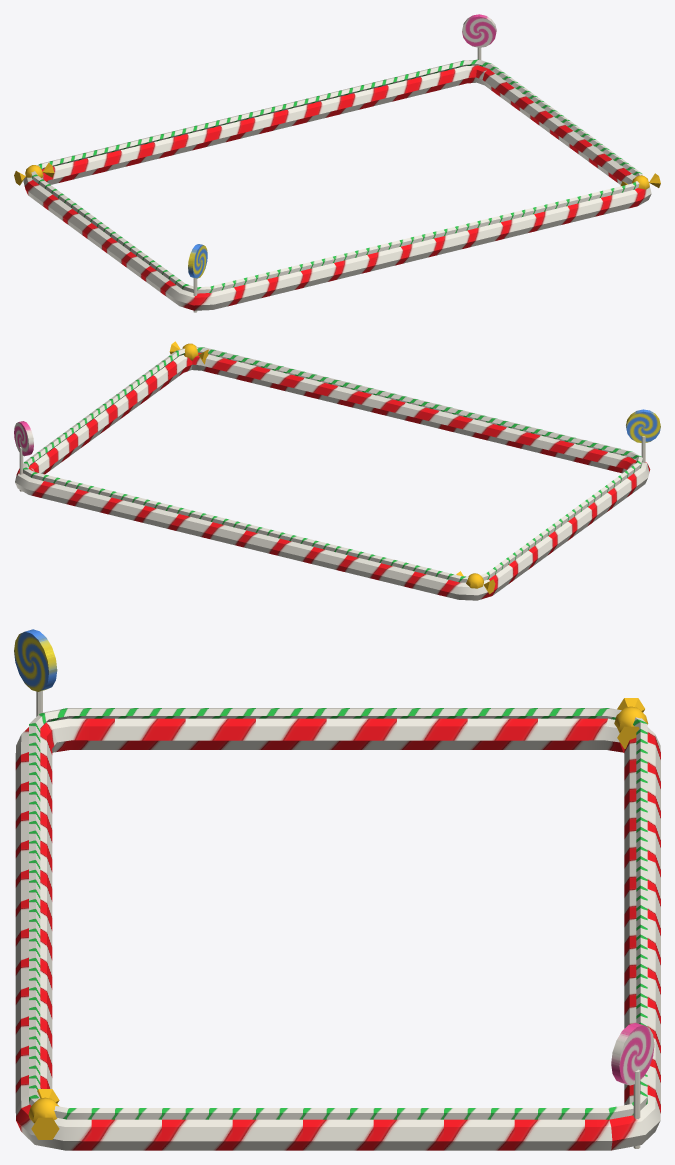
Rendered from Rim_Candy.fbx.
3 views of the same model, one above another, from view 1: azimuth 30°, elevation 25°; view 2: azimuth 150°, elevation 25°; view 3: azimuth 270°, elevation 25° (orthographic). The views are drawn at different scales.
Visible parts, largest first — view 1: Rim_Candy; view 2: Rim_Candy; view 3: Rim_Candy.
Boxes of the visible parts, x1,y1,x2,y2 form: Rim_Candy: (14, 14, 660, 312); Rim_Candy: (14, 341, 660, 600); Rim_Candy: (14, 629, 660, 1150).
Bounding box in the file's own units: 3.51 × 0.47 × 2.29.
1 material, 1 textured.
